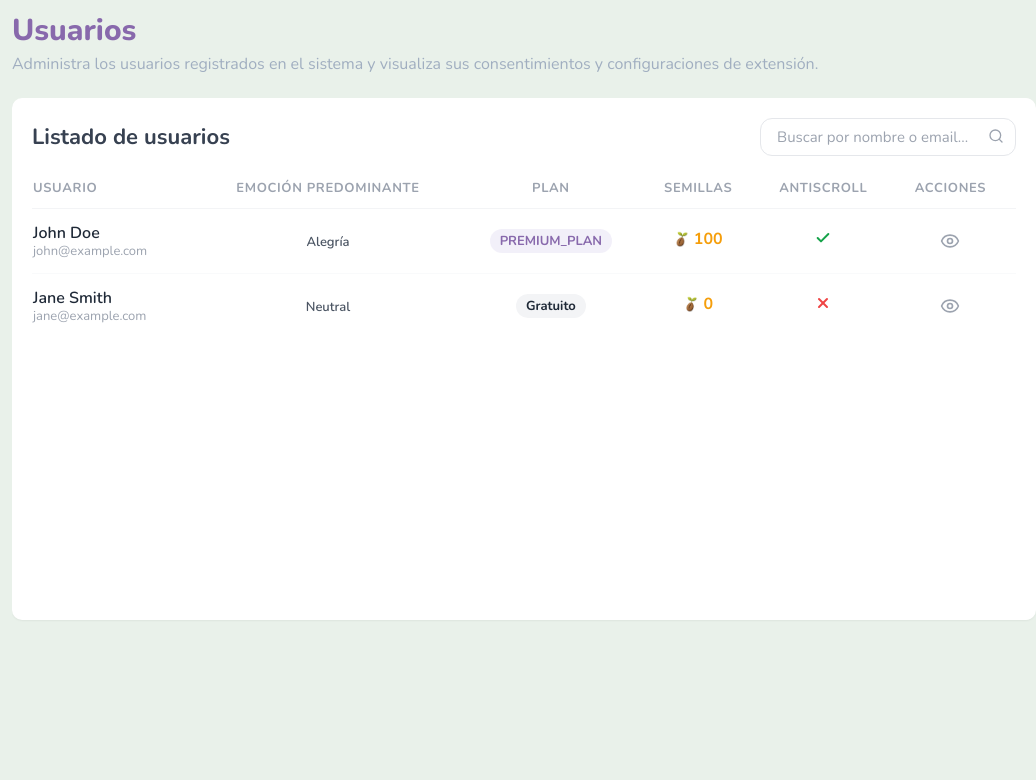
Test: UsersPage › filtra usuarios por busqueda
The width and height of the screenshot is (1036, 780).
In the field with placeholder "Buscar por nombre o email...": (888, 136) [760,118,1016,156], type "Smith"
Then press Enter
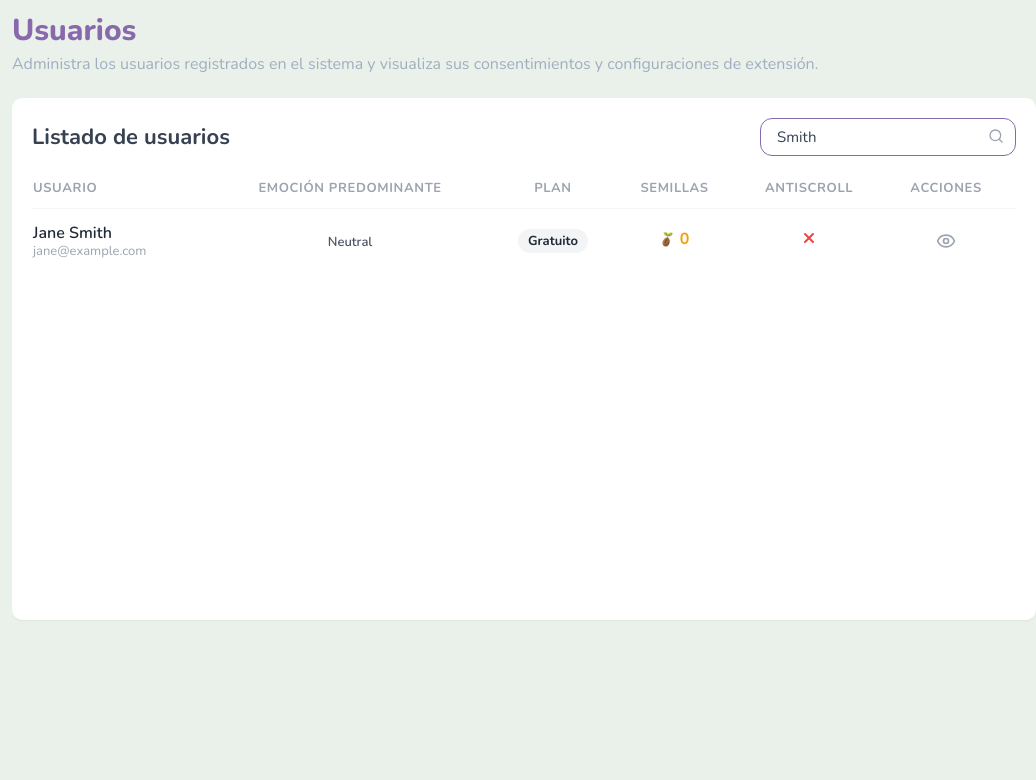
expect the text "John Doe" is not shown: met
